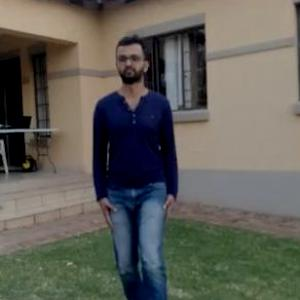follow: (94, 33, 176, 271)
